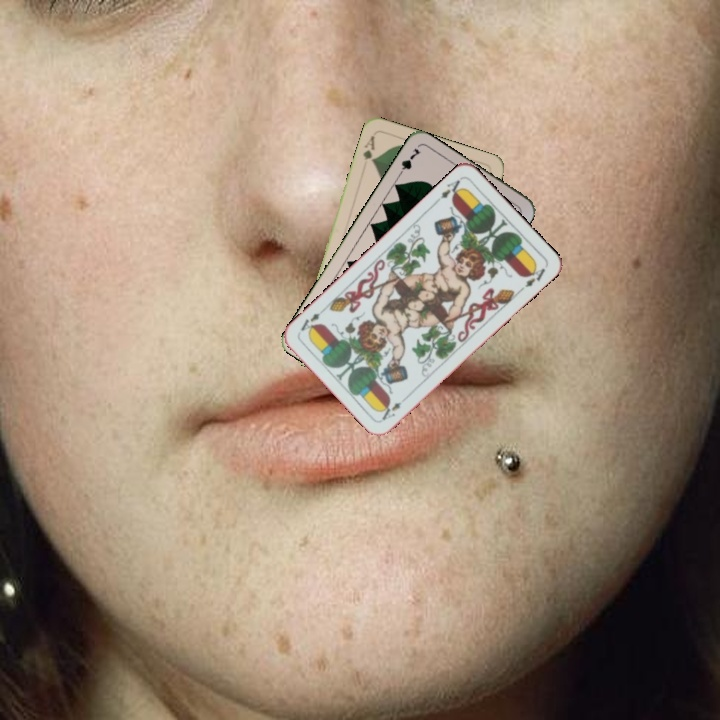EA: (431, 176, 466, 206), (377, 392, 410, 423)
G7: (393, 144, 424, 180)
GA: (359, 132, 377, 165)
